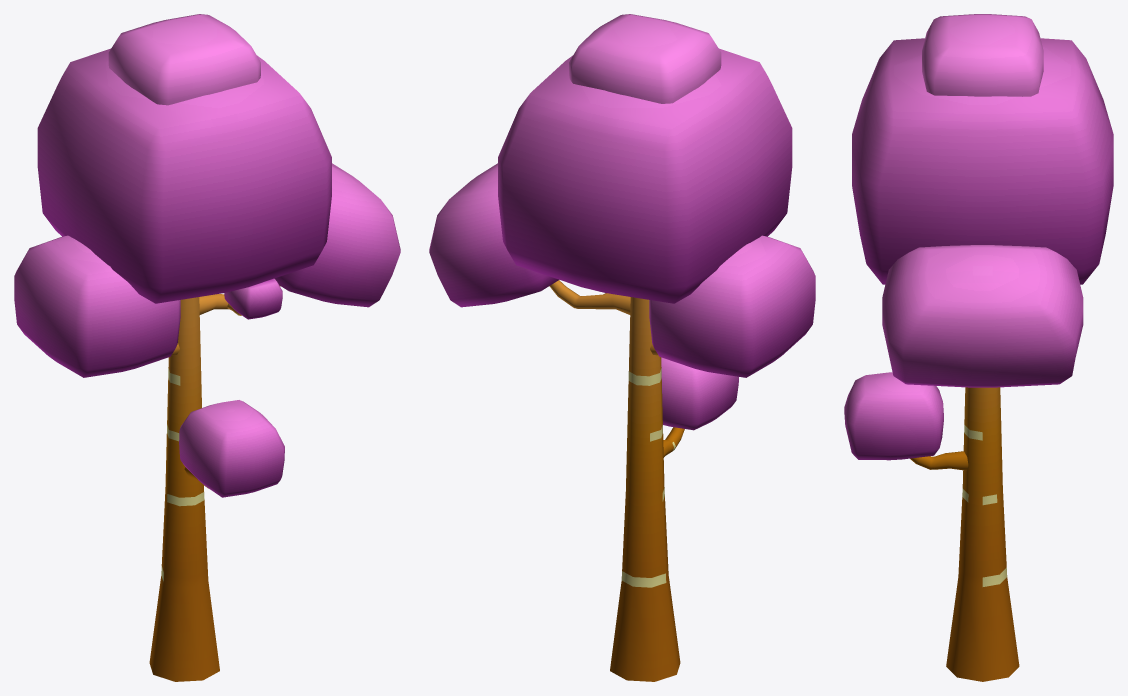
Rendered from pink-3.fbx.
The picture shows the model from 3 angles, left to right: view 1: azimuth 30°, elevation 25°; view 2: azimuth 150°, elevation 25°; view 3: azimuth 270°, elevation 25°; orthographic projection.
Parts seen in each view (by area): view 1: Cylinder; view 2: Cylinder; view 3: Cylinder.
Part boxes in pixels (x1,y1,x2,y2): Cylinder: (14,14,400,681); Cylinder: (429,14,815,681); Cylinder: (844,14,1113,681).
Size of the model in its own units: 124 by 233 by 89.07.
